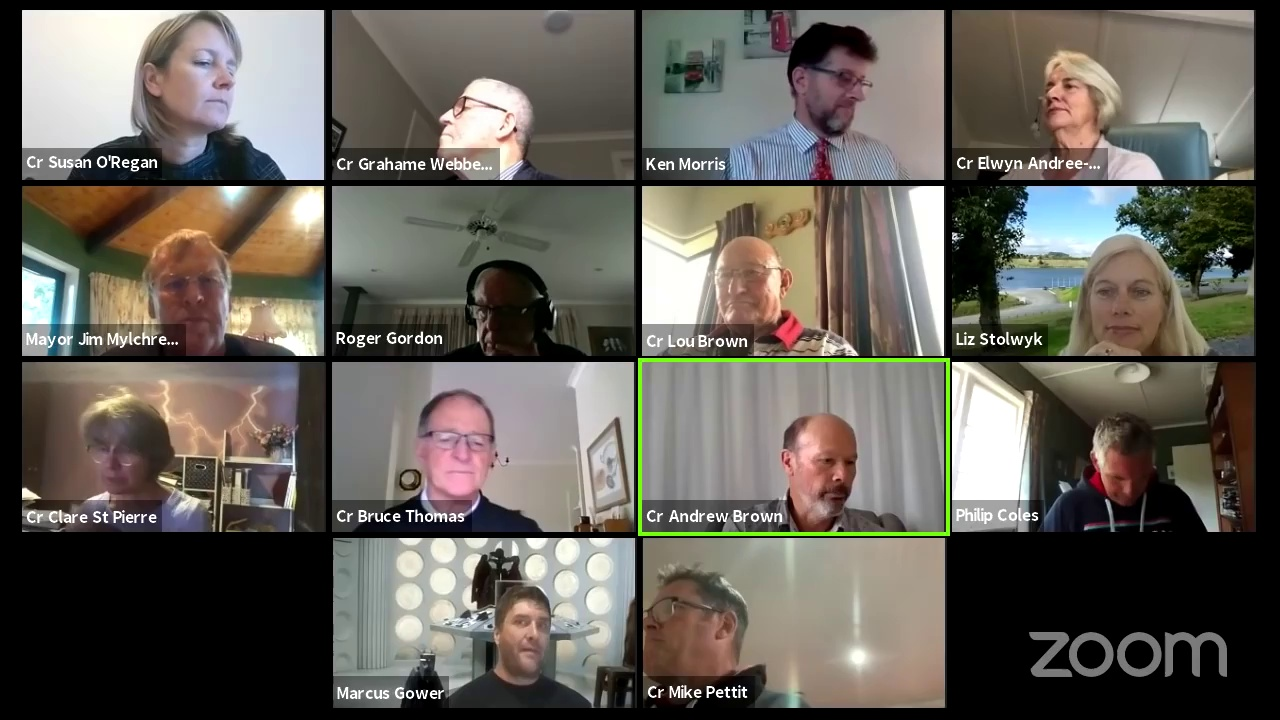Distracted: (133, 23, 242, 133), (779, 25, 876, 132), (422, 66, 525, 157), (653, 570, 730, 676), (783, 419, 860, 520), (458, 270, 542, 353), (83, 400, 154, 491), (1090, 421, 1161, 505), (1038, 55, 1110, 130)
Not Distracted: (406, 387, 507, 505), (1071, 248, 1174, 342), (139, 242, 238, 338), (701, 242, 786, 334), (489, 589, 554, 680)
